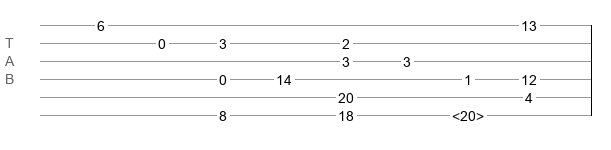0: (158, 36, 166, 46), (219, 72, 227, 82)
1: (464, 72, 472, 82)
12: (521, 72, 537, 82)
13: (521, 18, 537, 28)
14: (276, 72, 292, 82)
18: (338, 108, 354, 118)
2: (342, 36, 350, 46)
20: (338, 90, 354, 100)
3: (219, 36, 227, 46), (342, 54, 350, 64), (403, 54, 411, 64)
4: (525, 90, 533, 100)
6: (97, 18, 105, 28)
8: (219, 108, 227, 118)
harmonic: (452, 108, 484, 118)
